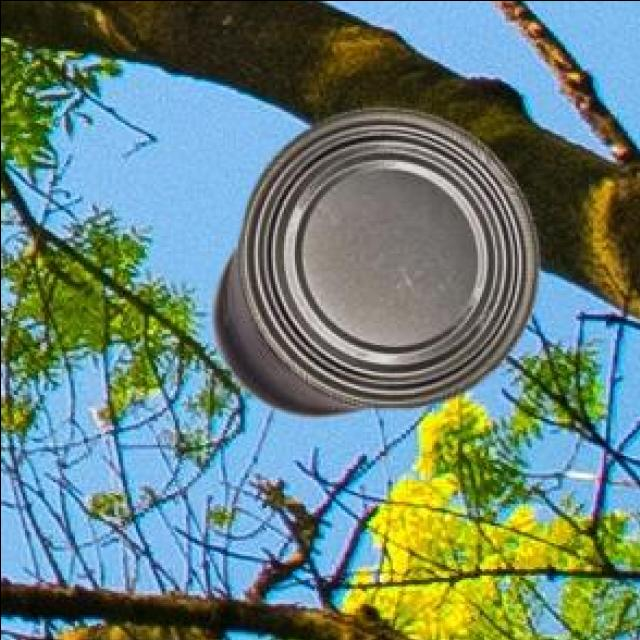logam: (208, 103, 534, 413)
